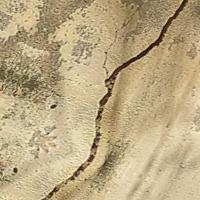crack: (43, 1, 186, 199)
